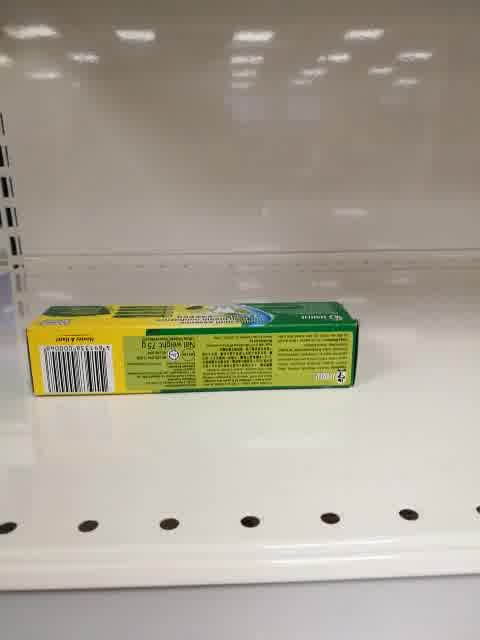toothpaste: (22, 298, 360, 398)
